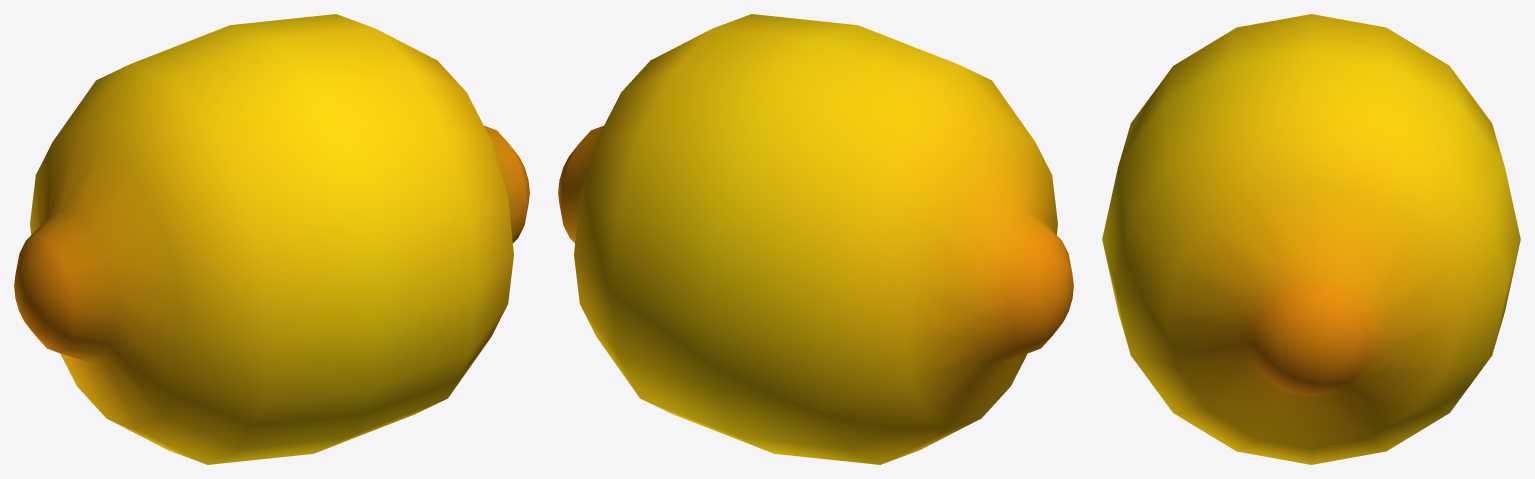
File: Lemon_02.glb
3 renders of one model, left to right at view 1: azimuth 30°, elevation 25°; view 2: azimuth 150°, elevation 25°; view 3: azimuth 270°, elevation 25°, orthographic. The views are drawn at different scales.
Parts seen in each view (by area): view 1: Lemon_02; view 2: Lemon_02; view 3: Lemon_02.
Part boxes in pixels (x1,y1,x2,y2): Lemon_02: [14, 14, 529, 464]; Lemon_02: [558, 14, 1073, 464]; Lemon_02: [1102, 14, 1520, 464].
Bounding box in the file's own units: 0.2321 × 0.1777 × 0.1777.
Materials: 1 (1 with a texture image).
